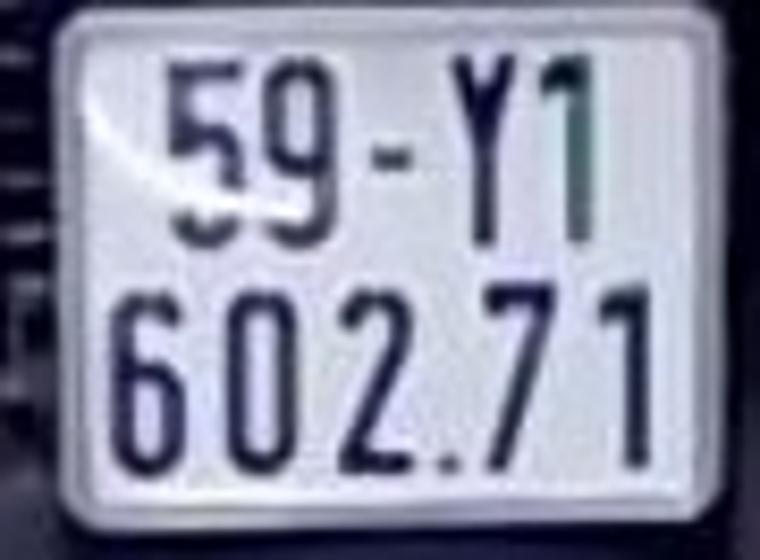-: (368, 132, 422, 179)
.: (434, 438, 462, 487)
0: (223, 282, 301, 475)
1: (539, 45, 610, 249), (596, 281, 654, 460)
2: (328, 278, 422, 483)
5: (152, 52, 251, 248)
6: (110, 276, 193, 488)
7: (469, 275, 558, 479)
9: (262, 56, 342, 259)
Y: (441, 42, 522, 260)
